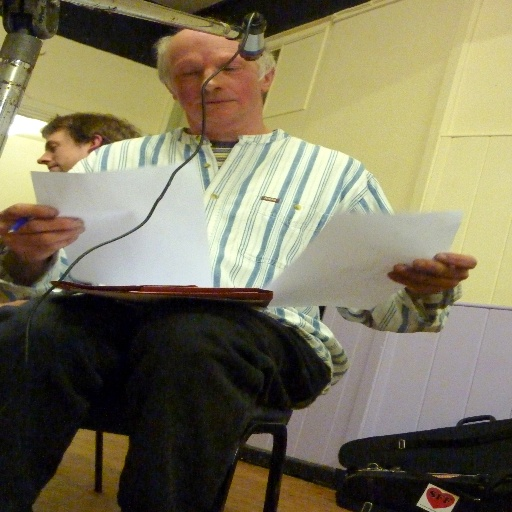hand: (2, 199, 82, 256), (385, 250, 478, 294)
